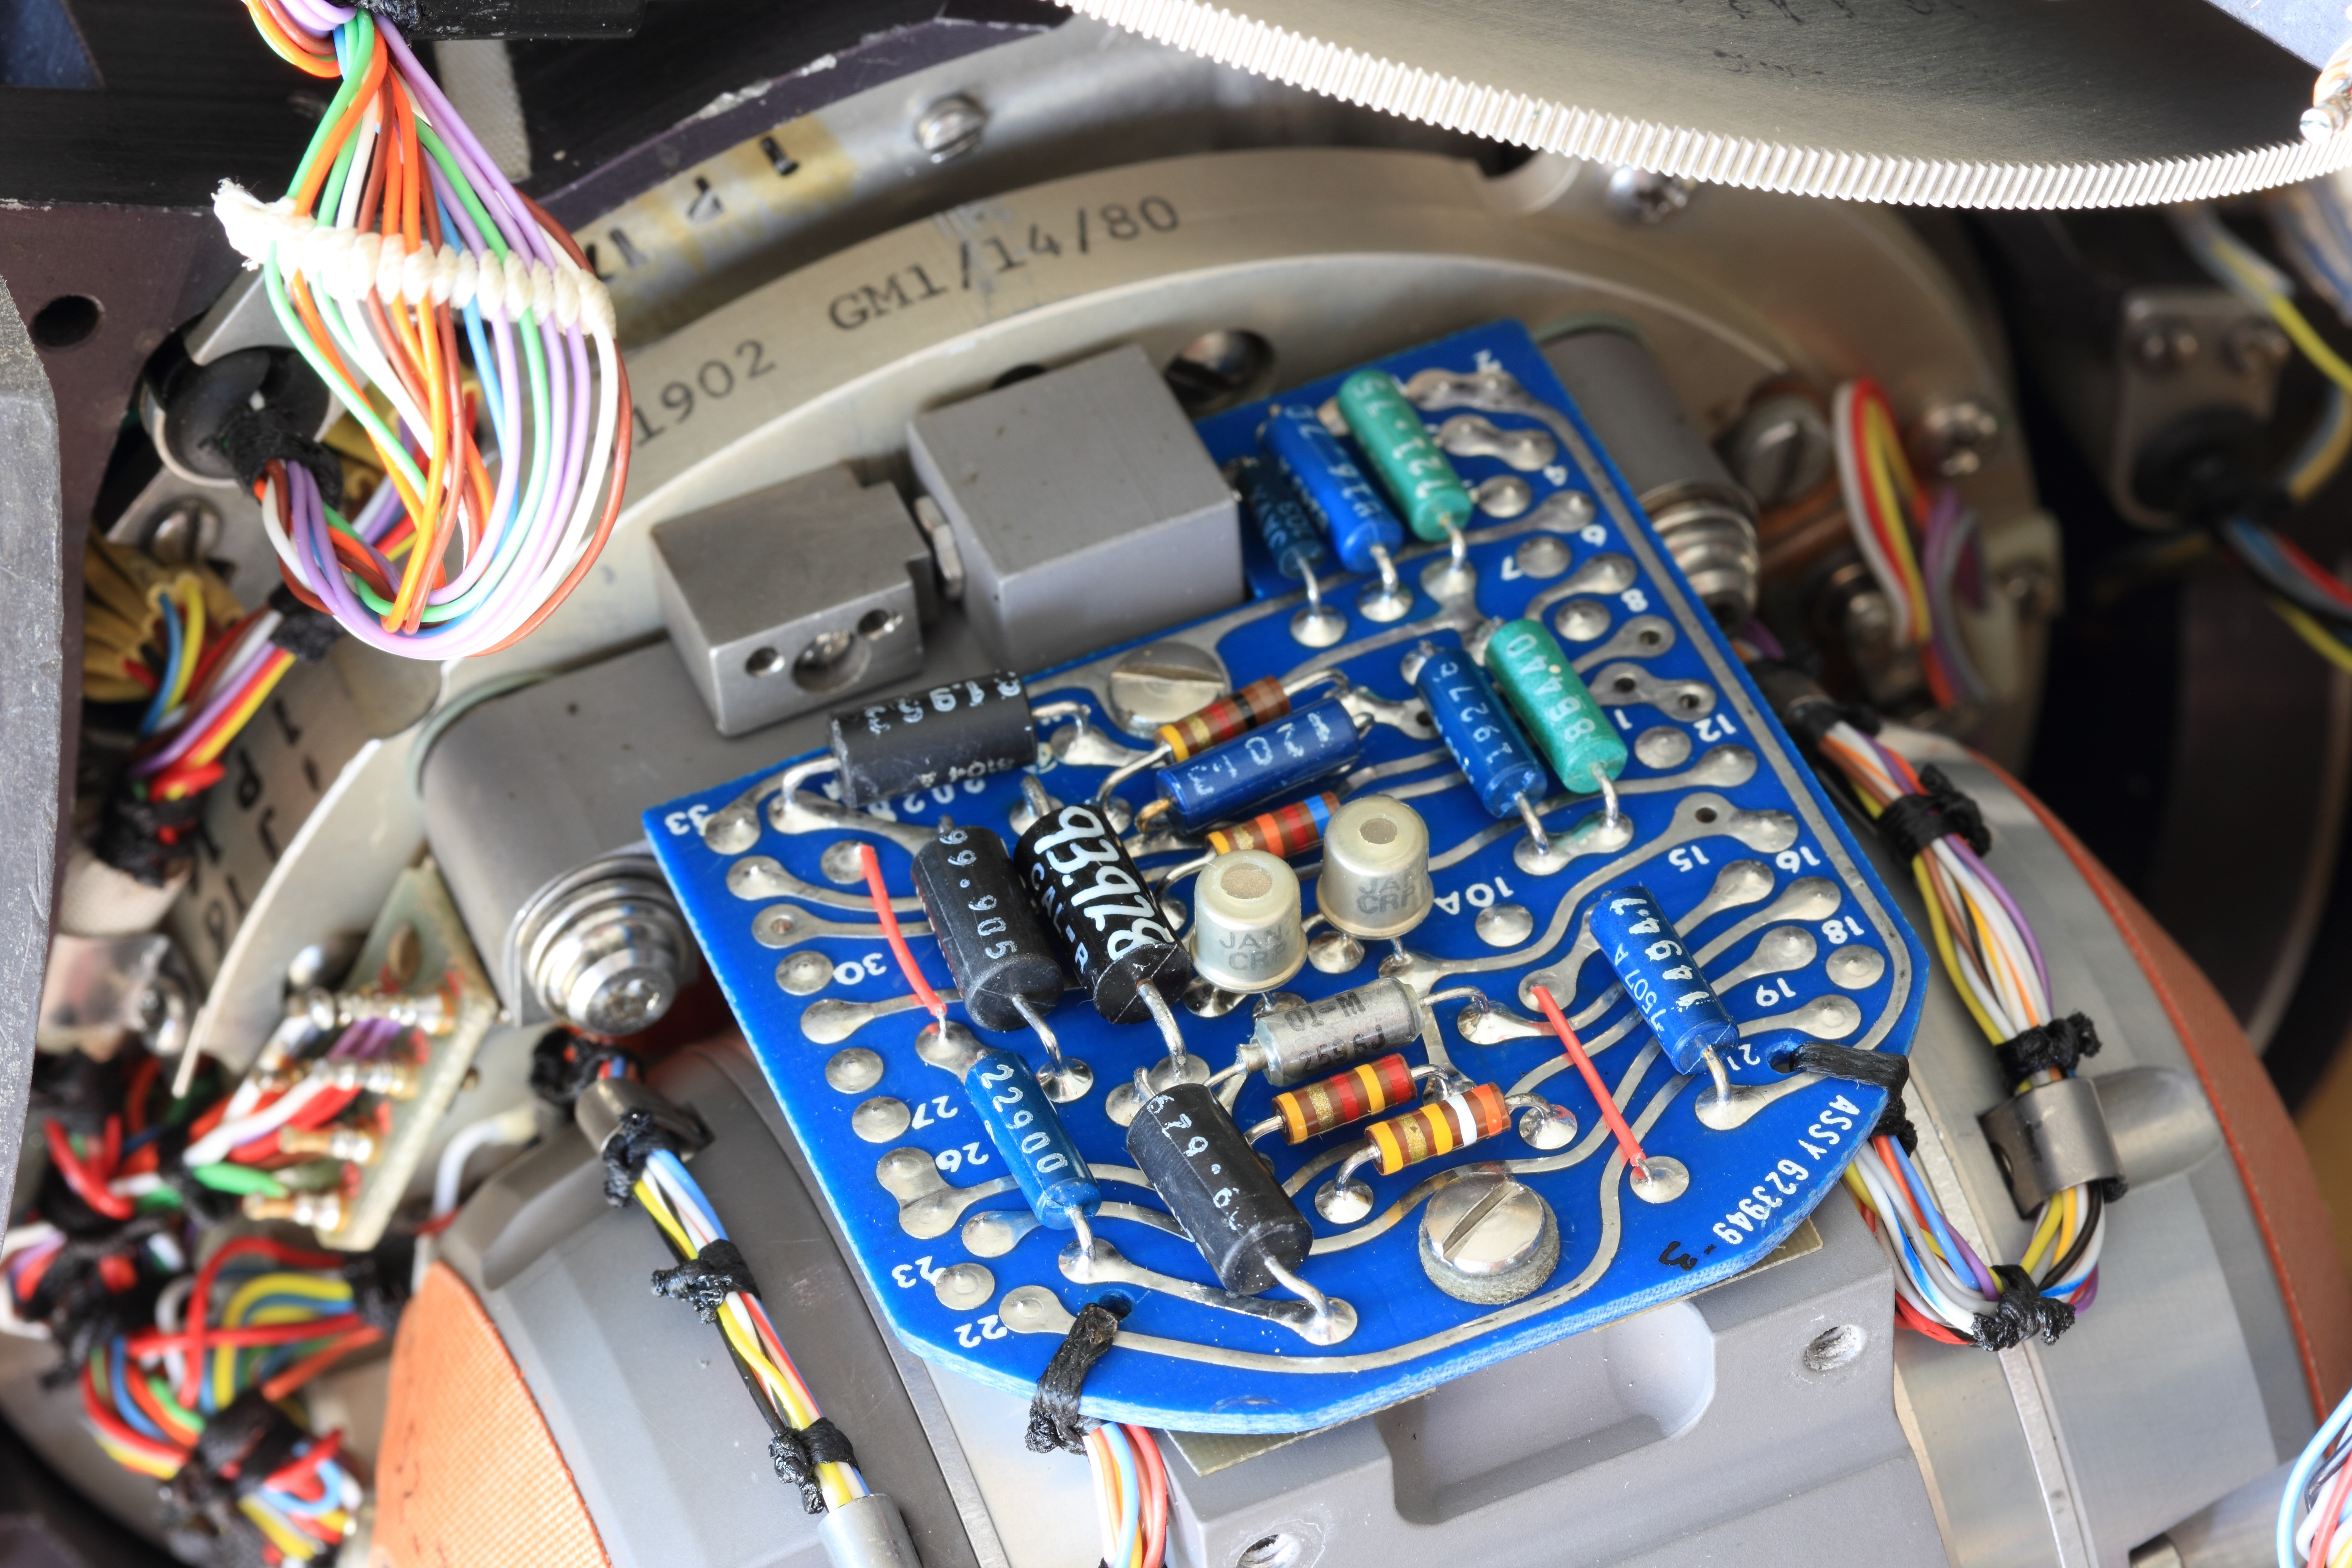Resistor: (1143, 669, 1307, 775), (1349, 1076, 1519, 1179), (1262, 1052, 1426, 1148), (1188, 789, 1360, 878)
